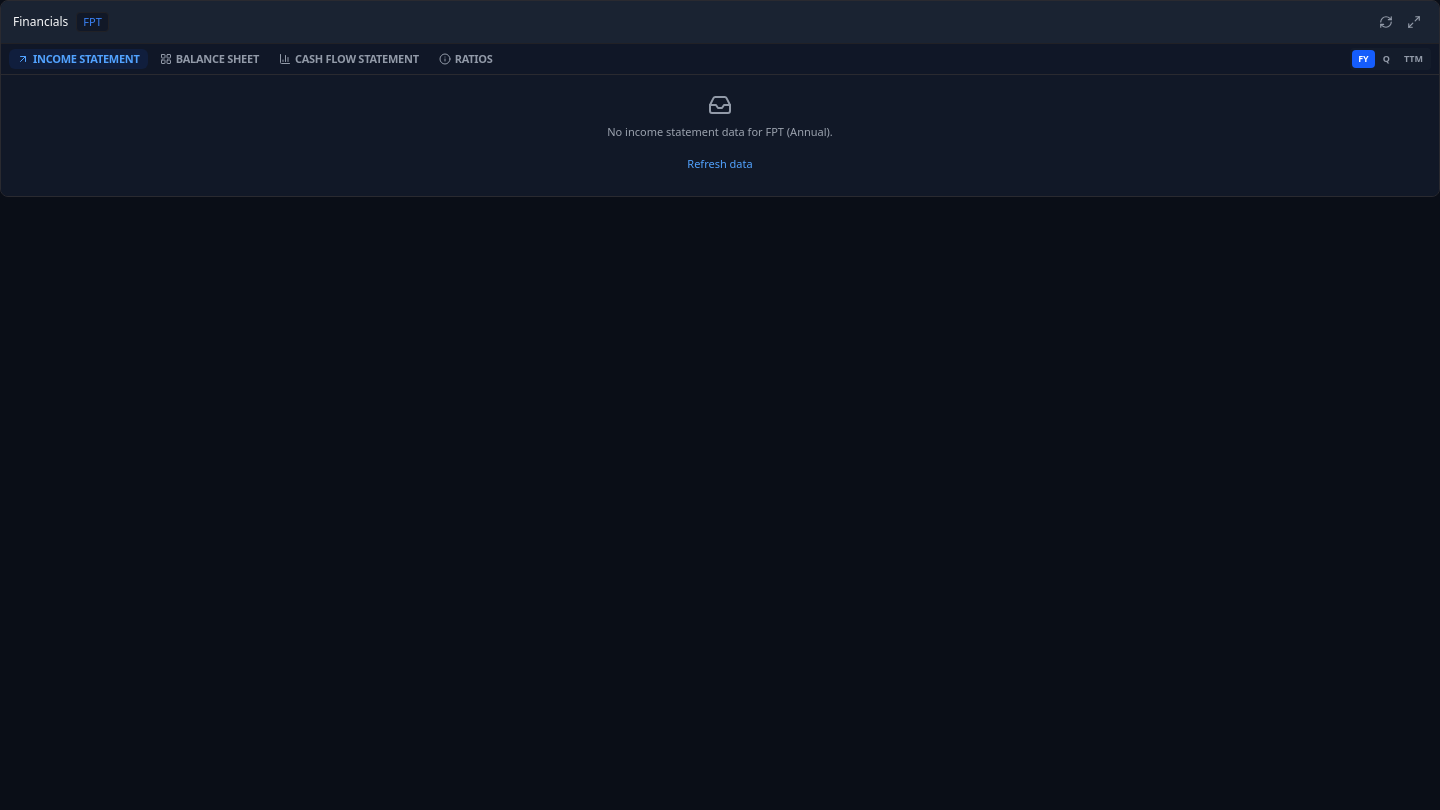
Test: FinancialsWidget › preserves declared dividend percent and withholds percent units
The width and height of the screenshot is (1440, 810).
What coordinates should you click on to do the following:
click the button "Ratios"
I would click on:
 (466, 59)
Its box is 431,48 -> 501,69.
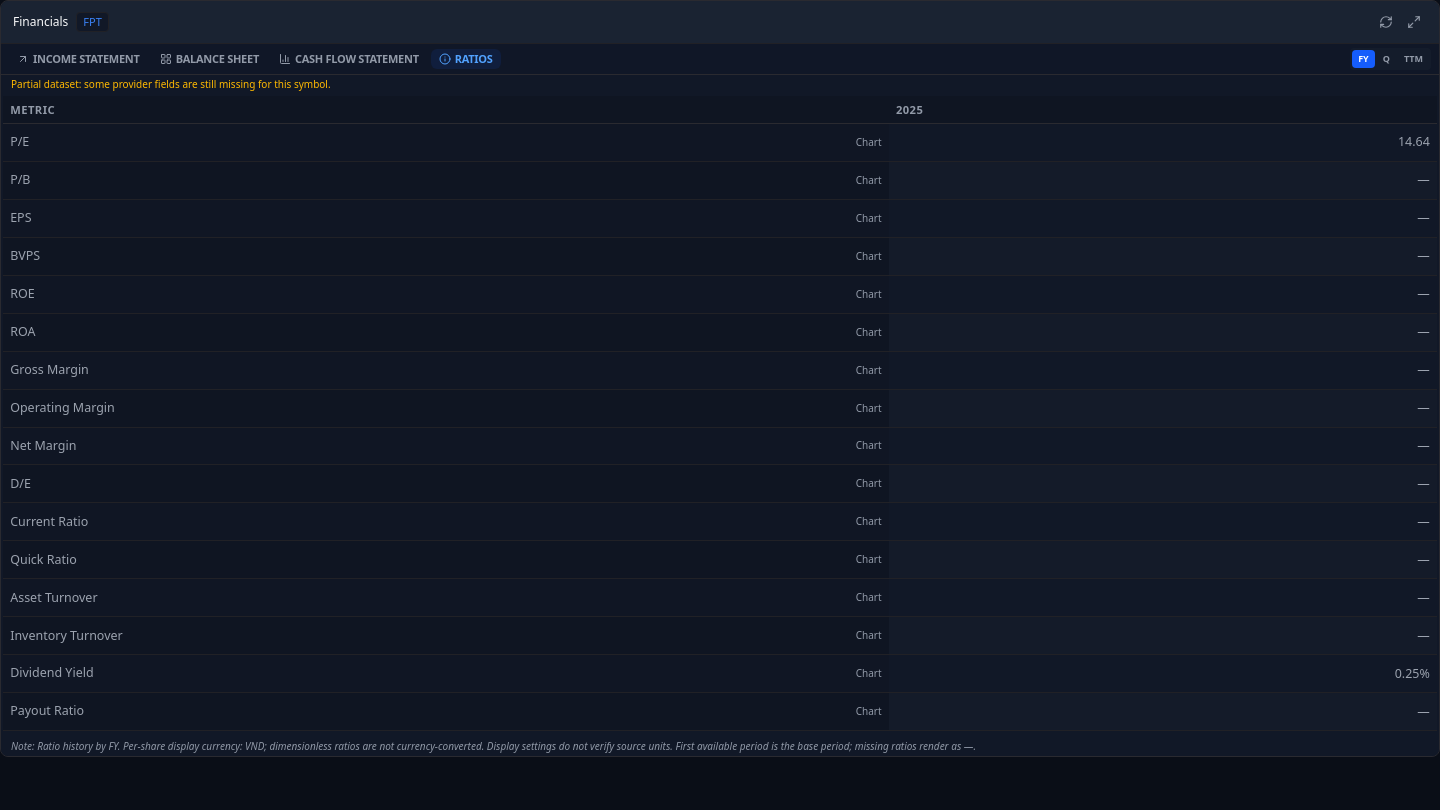
expect the text "Dividend Yield" does not show "25.00%": met, box 3,655 -> 1437,692
expect the text "Dividend Yield" shows "0.25%": met, box 1395,665 -> 1430,682
